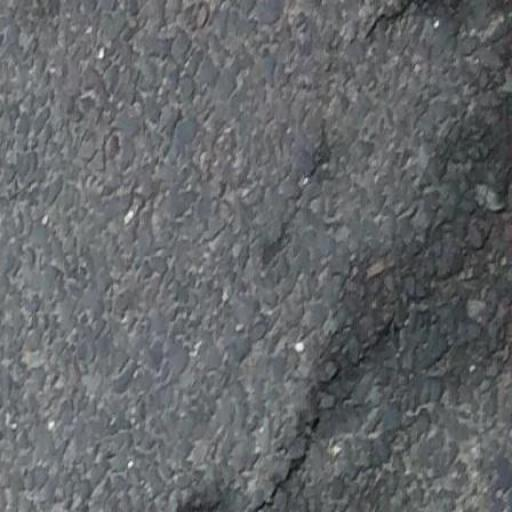spalling: (238, 257, 481, 512)
